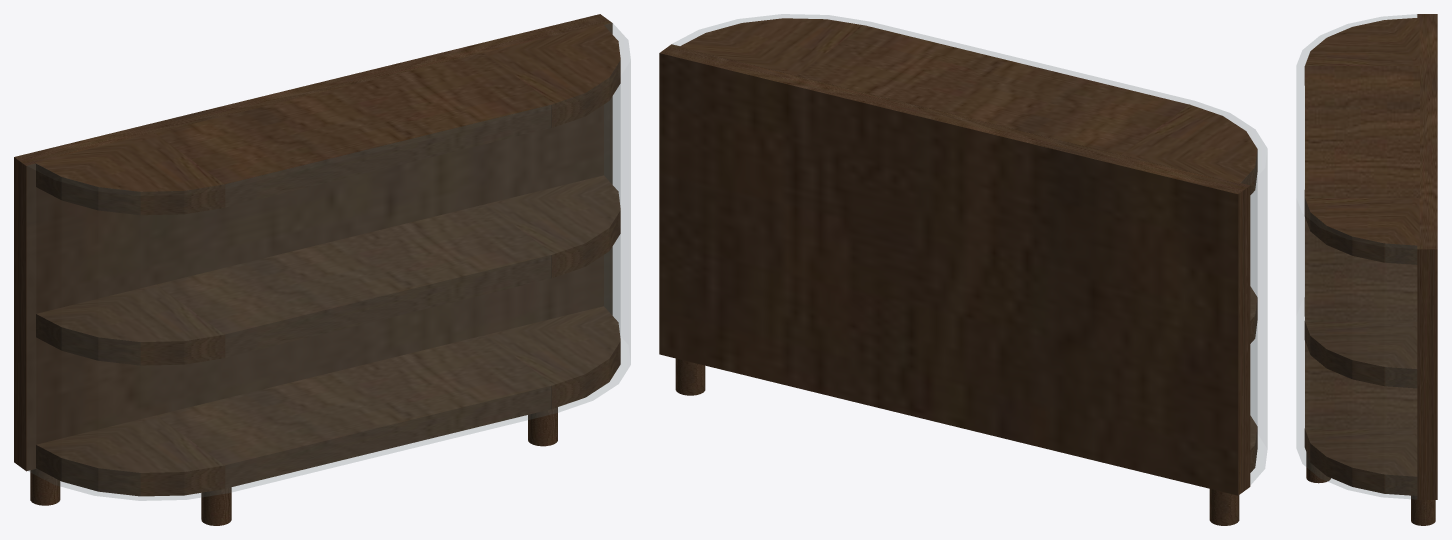
File: Cabinet With Glass.fbx
3 views of the same model, side by side, from view 1: azimuth 30°, elevation 25°; view 2: azimuth 150°, elevation 25°; view 3: azimuth 270°, elevation 25° (orthographic). The views are drawn at different scales.
Parts seen in each view (by area): view 1: pCylinder5, pCube2, pCube4, pCube1, pCube3, pCylinder8, pCylinder1, pCylinder6, pCylinder9, pCylinder7, pCylinder2, pCylinder12 (+2 smaller); view 2: pCube2, pCube4, pCylinder5, pCylinder8, pCylinder9, pCylinder11, pCylinder10; view 3: pCylinder5, pCube4, pCube2, pCube3, pCylinder9, pCylinder7, pCylinder2, pCube1, pCylinder8, pCylinder11, pCylinder13.
Boxes of the visible parts, box(x1,y1,x2,y2) form: pCylinder5: box(27, 23, 630, 500); pCube2: box(14, 14, 612, 471); pCube4: box(155, 53, 553, 207); pCube1: box(156, 335, 553, 488); pCube3: box(156, 204, 553, 357); pCylinder8: box(34, 133, 225, 215); pCylinder1: box(36, 415, 225, 496); pCylinder6: box(36, 284, 225, 365); pCylinder9: box(484, 24, 620, 127); pCylinder7: box(485, 175, 620, 278); pCylinder2: box(486, 306, 620, 409); pCylinder12: box(201, 487, 231, 525); pCube2: box(659, 44, 1250, 495); pCube4: box(796, 25, 1188, 154); pCylinder5: box(673, 14, 1267, 484); pCylinder8: box(1121, 104, 1257, 194); pCylinder9: box(678, 18, 863, 75); pCylinder11: box(675, 358, 705, 395); pCylinder10: box(1209, 489, 1239, 525); pCylinder5: box(1296, 14, 1416, 499); pCube4: box(1305, 66, 1419, 197); pCube2: box(1417, 14, 1437, 499); pCube3: box(1305, 218, 1417, 321); pCylinder9: box(1304, 197, 1419, 264); pCylinder7: box(1304, 321, 1417, 388); pCylinder2: box(1304, 428, 1417, 495); pCube1: box(1305, 341, 1417, 429); pCylinder8: box(1304, 17, 1419, 85); pCylinder11: box(1411, 495, 1435, 525); pCylinder13: box(1306, 452, 1330, 483).
Bounding box in the file's own units: 16.3 × 9.08 × 4.14.
2 materials, 1 textured.
